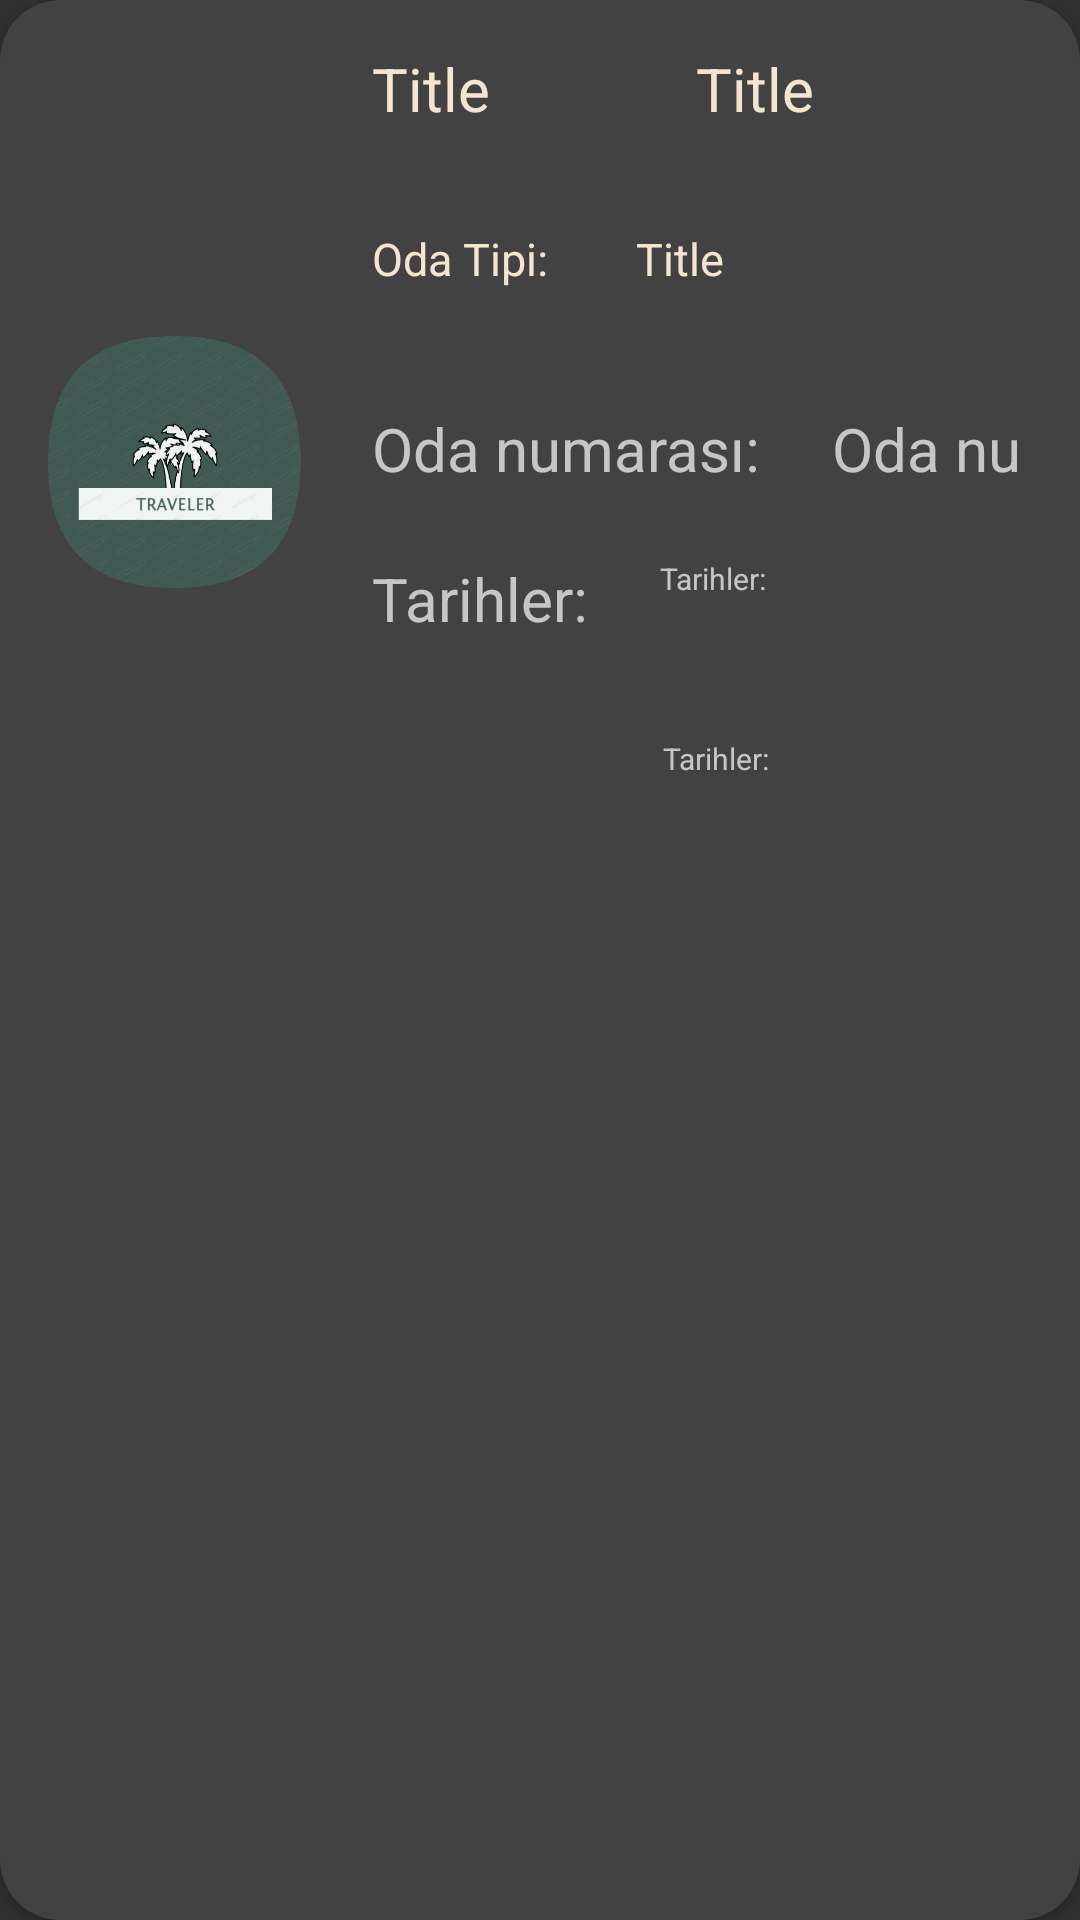

Icon bounding boxes for this 1080w x 1920h phone screenshot, format detection(x1, y1, x2, y2):
palmtreeo: detection(48, 336, 301, 588)
